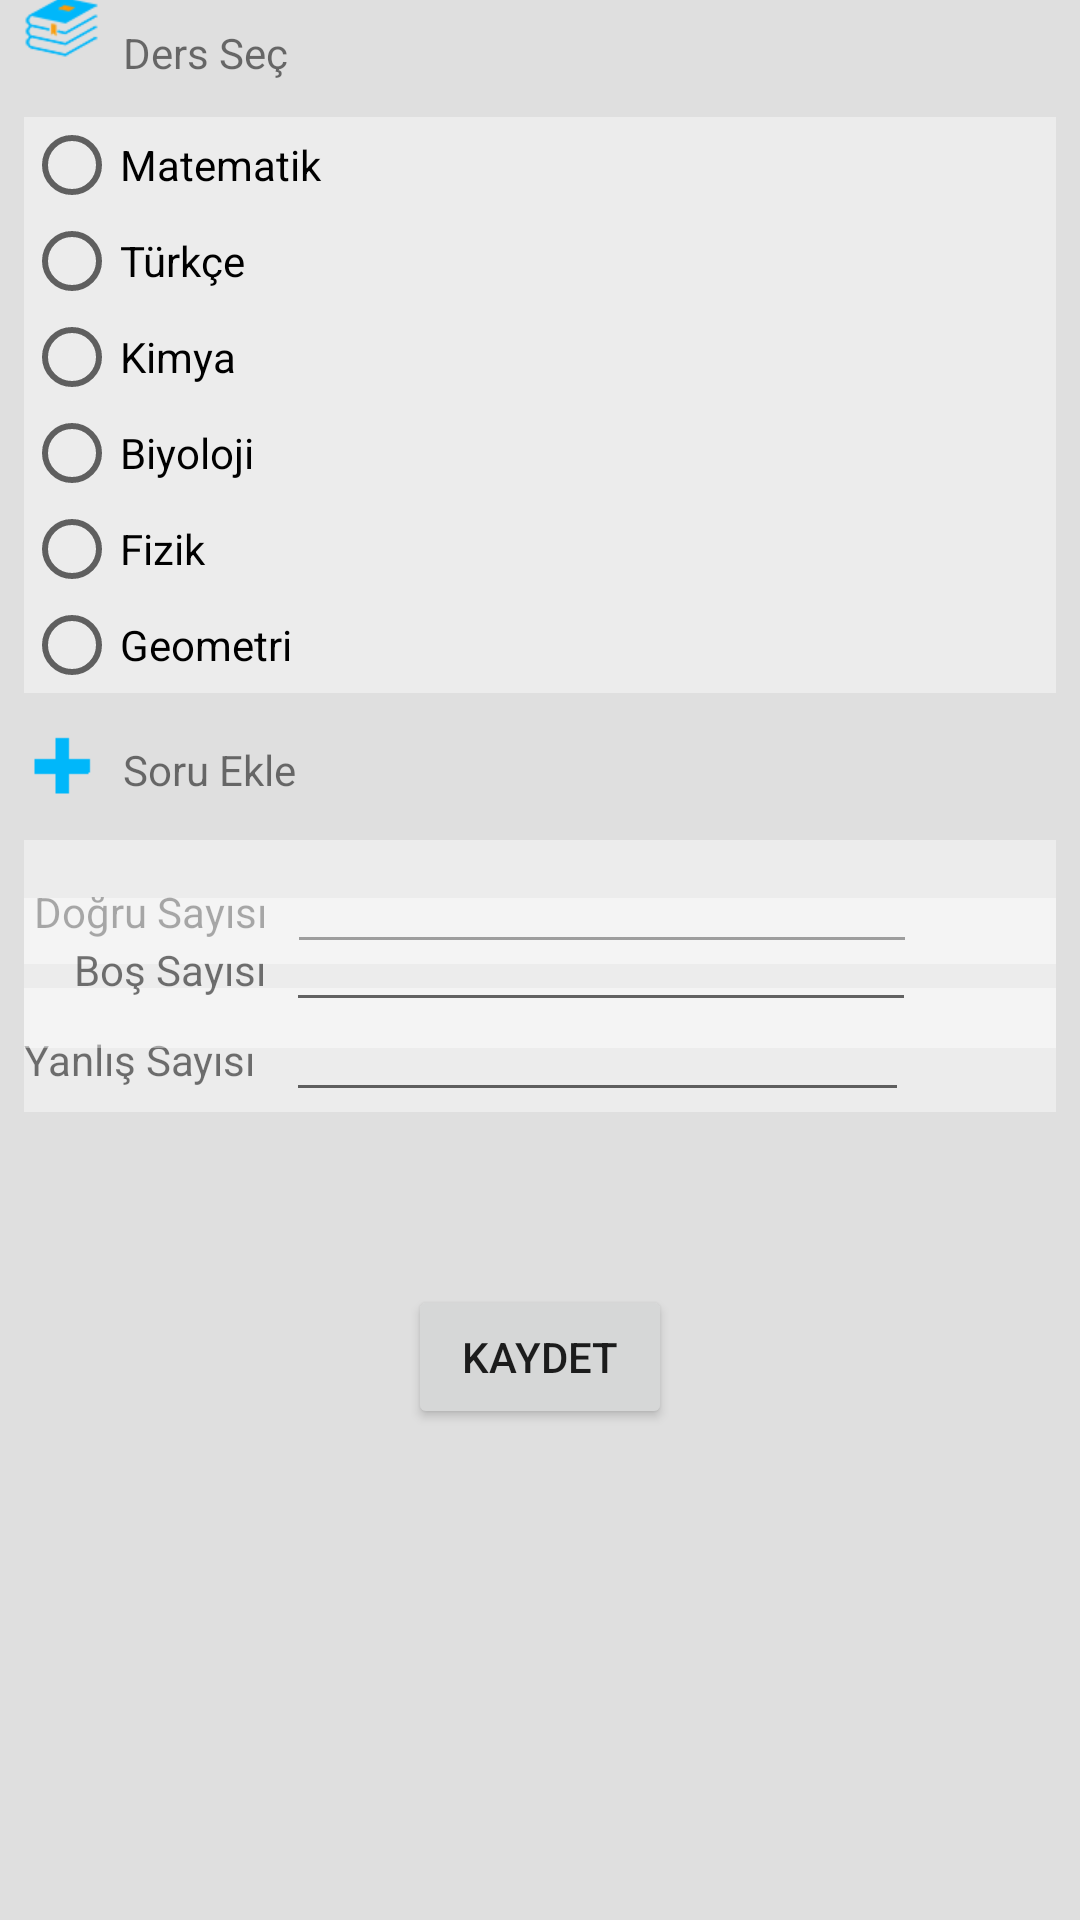

Where to tap for icons on this 1080*1920 app screen, as (x=x, y=y):
plus: (x=62, y=765)
